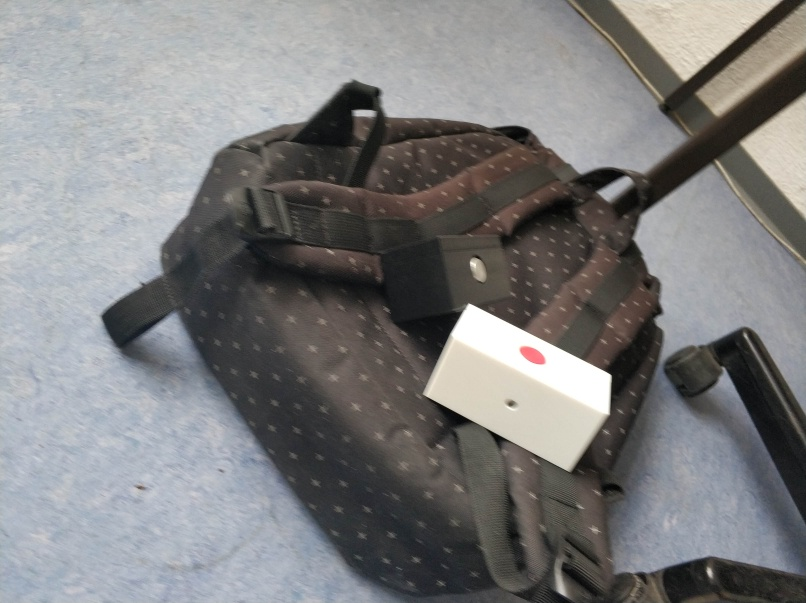black+black+silver: (379, 231, 522, 325)
white+white+red: (421, 301, 615, 477)
